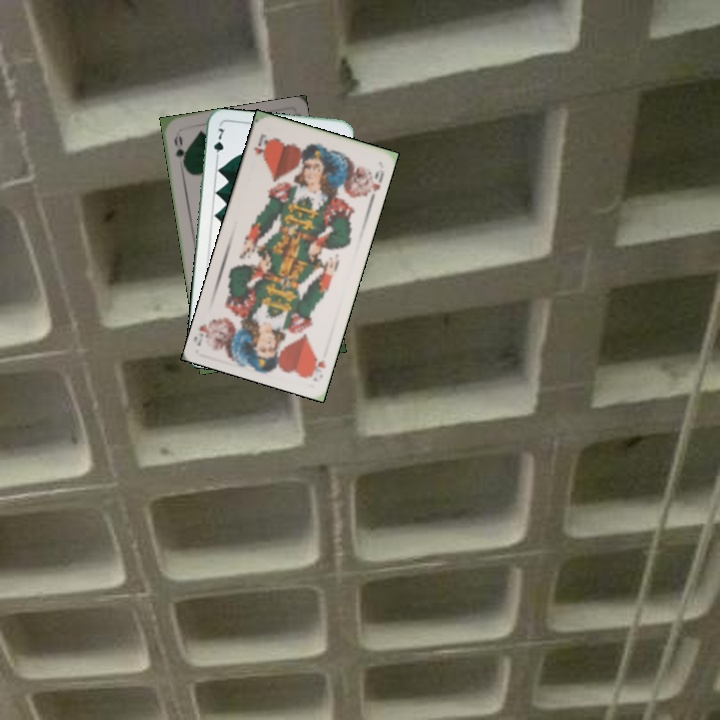G7: (209, 124, 227, 164)
GO: (170, 131, 188, 170)
HO: (250, 130, 271, 163), (305, 351, 328, 380)
